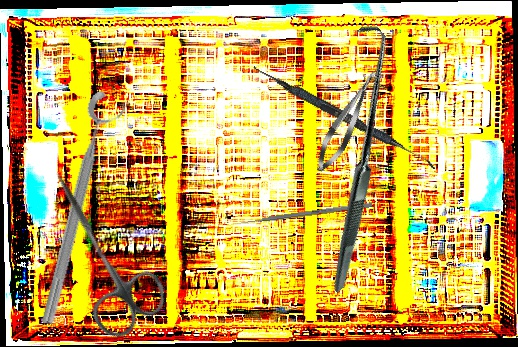Fixation Ring: (34, 89, 130, 330)
Hook Surgical: (216, 19, 492, 293)
Iris Scissors: (21, 155, 176, 345)
Micro Scissor: (309, 64, 386, 177)
Pusher: (230, 202, 373, 227)
Spatula Surgical: (249, 64, 441, 170)
